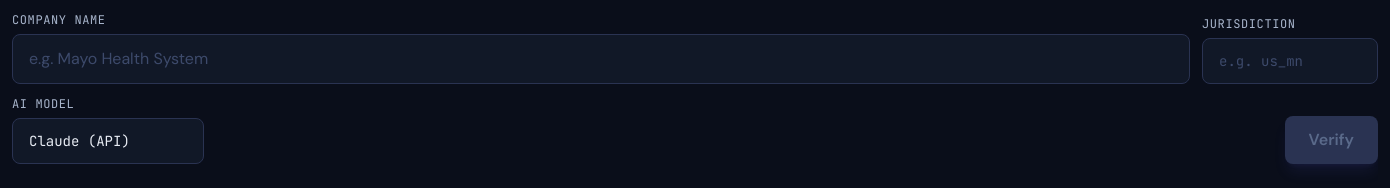
Test: SearchBar › enables submit when company name has 2+ chars
In the field with placeholder "e.g. Mayo Health System": (601, 59) [12,34,1190,84], type "Ab"
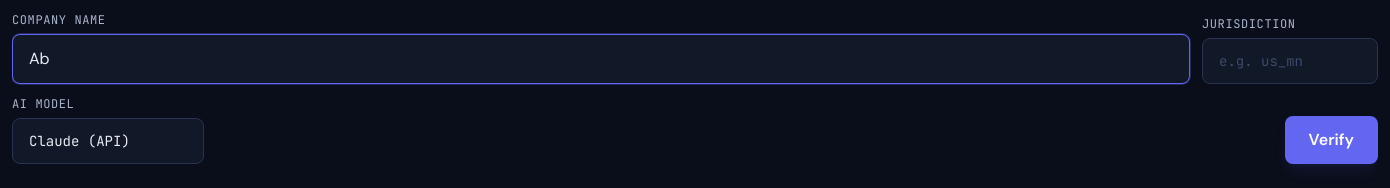
Expected: the button "Verify" is enabled, [1285,116,1378,164]
